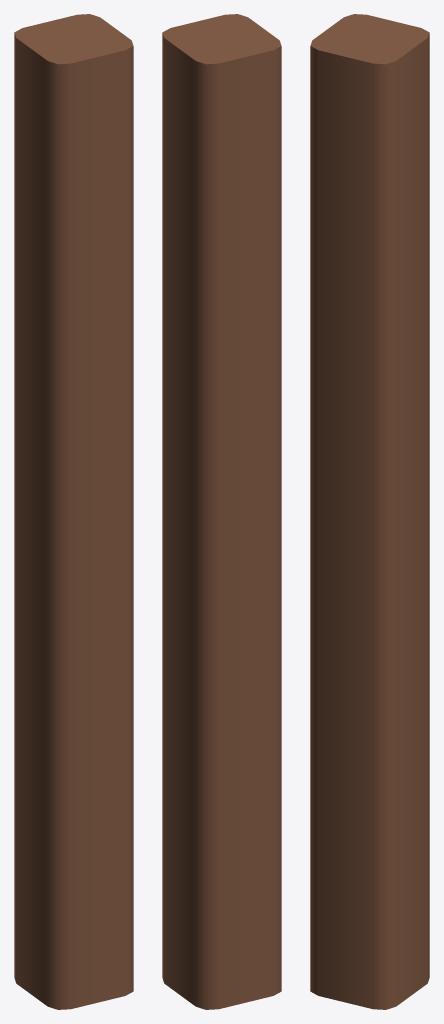
The model's file is Pillar_1.fbx.
The picture shows the model from 3 angles, left to right: view 1: azimuth 30°, elevation 25°; view 2: azimuth 210°, elevation 25°; view 3: azimuth 330°, elevation 25°; orthographic projection.
Parts seen in each view (by area): view 1: Pillar_1; view 2: Pillar_1; view 3: Pillar_1.
Boxes of the visible parts, x1,y1,x2,y2 form: Pillar_1: (14,14,133,1009); Pillar_1: (162,14,281,1009); Pillar_1: (310,14,429,1009).
Size of the model in its own units: 0.1618 by 1.74 by 0.1618.
